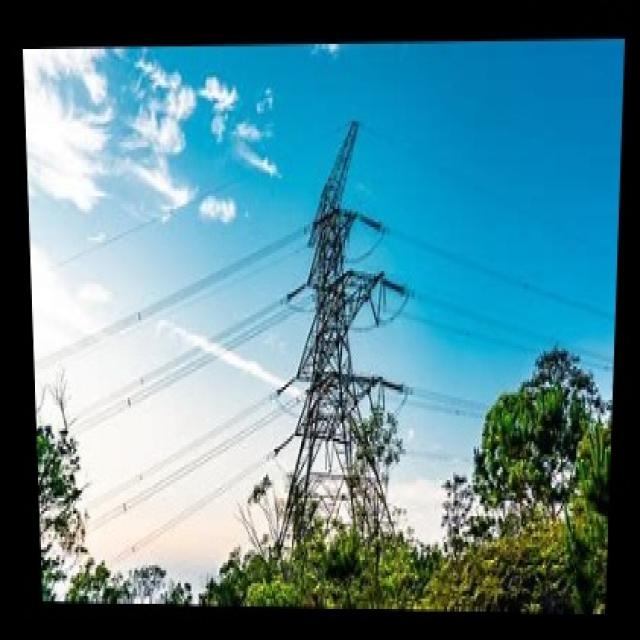utility poles: (435, 272, 604, 614), (267, 333, 410, 610)
